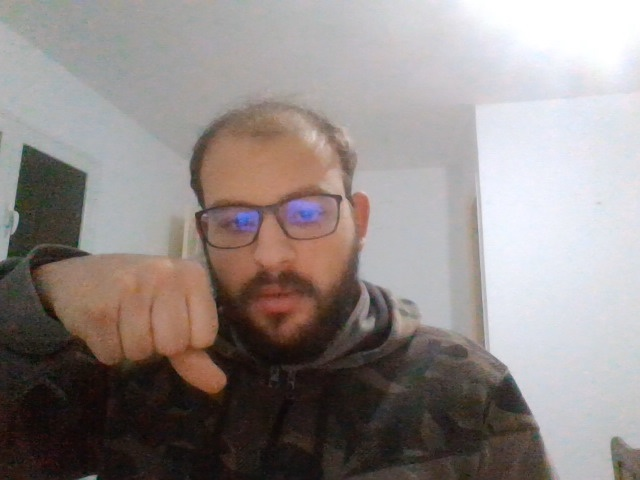Yes: (81, 260, 226, 394)
